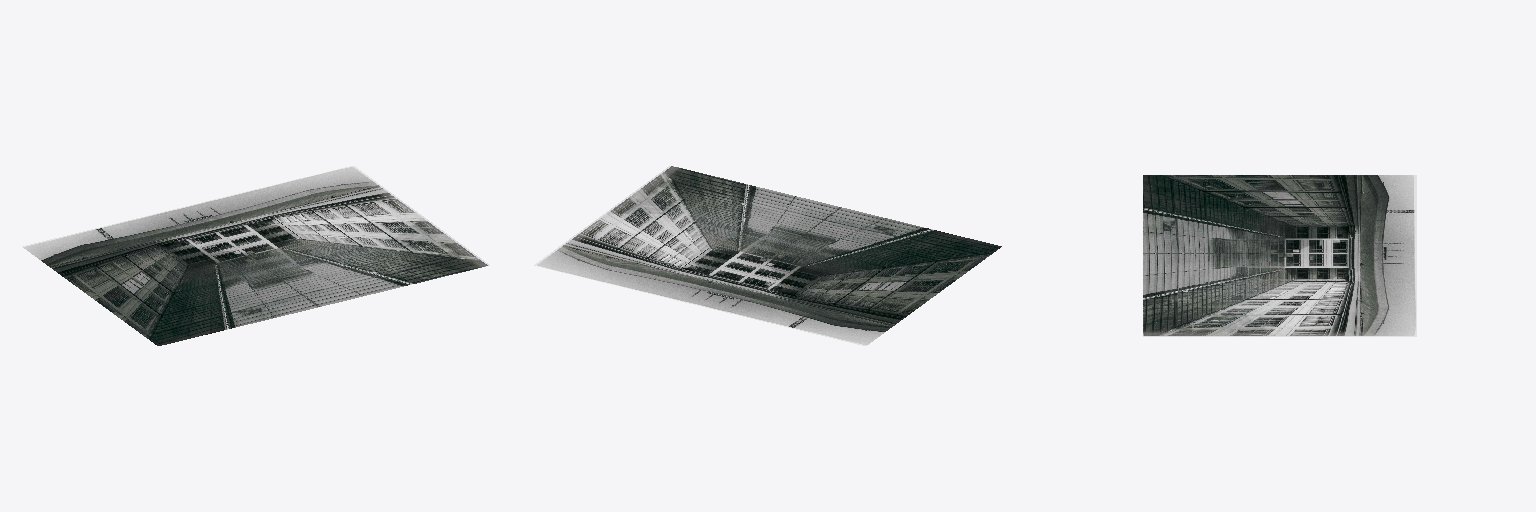
3 renders of one model, left to right at view 1: azimuth 30°, elevation 25°; view 2: azimuth 150°, elevation 25°; view 3: azimuth 270°, elevation 25°, orthographic.
Visible parts, largest first — view 1: Plane001; view 2: Plane001; view 3: Plane001.
Boxes of the visible parts, x1=… form: Plane001: x1=22, y1=166, x2=489, y2=345; Plane001: x1=534, y1=166, x2=1001, y2=345; Plane001: x1=1143, y1=175, x2=1416, y2=336.
Size of the model in its own units: 8.38 by 0 by 5.97.
Materials: 1 (1 with a texture image).